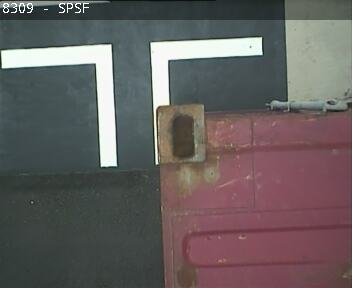groundmarker_1: (1, 37, 261, 163)
